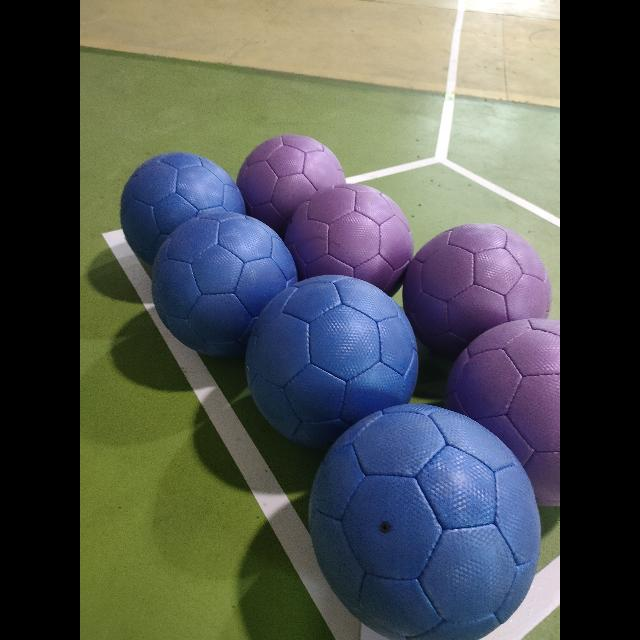B: (310, 404, 540, 640), (242, 276, 416, 438), (152, 213, 298, 357), (122, 154, 248, 268)
P: (450, 320, 560, 520), (403, 224, 551, 356), (284, 184, 412, 306), (237, 134, 345, 236)
